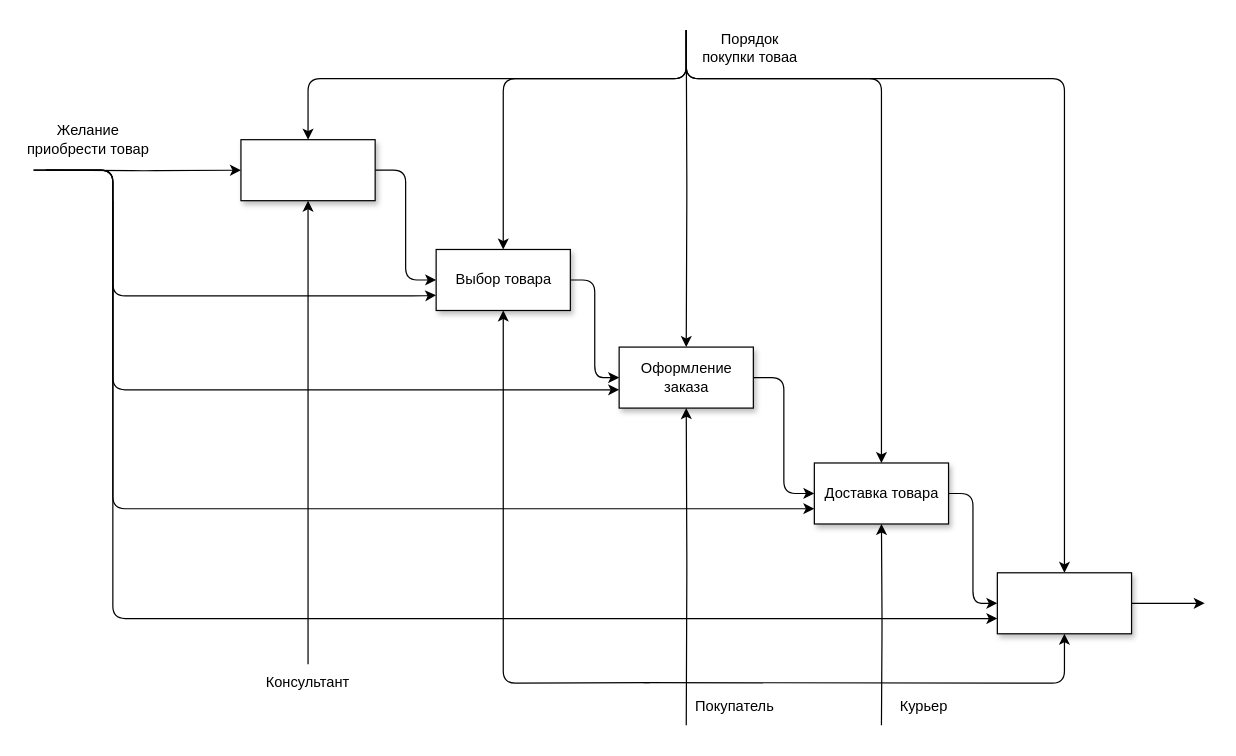
Image size: 1236x756. Some labels were removed from this diagram. Each missing label, with the centre of its shape:
"Забирание товара" belongs at point 1065,604.
"Консультация по товару" belongs at point 308,171.
